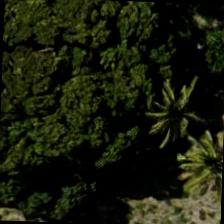Kelapa_Sawit: (134, 49, 223, 143)
